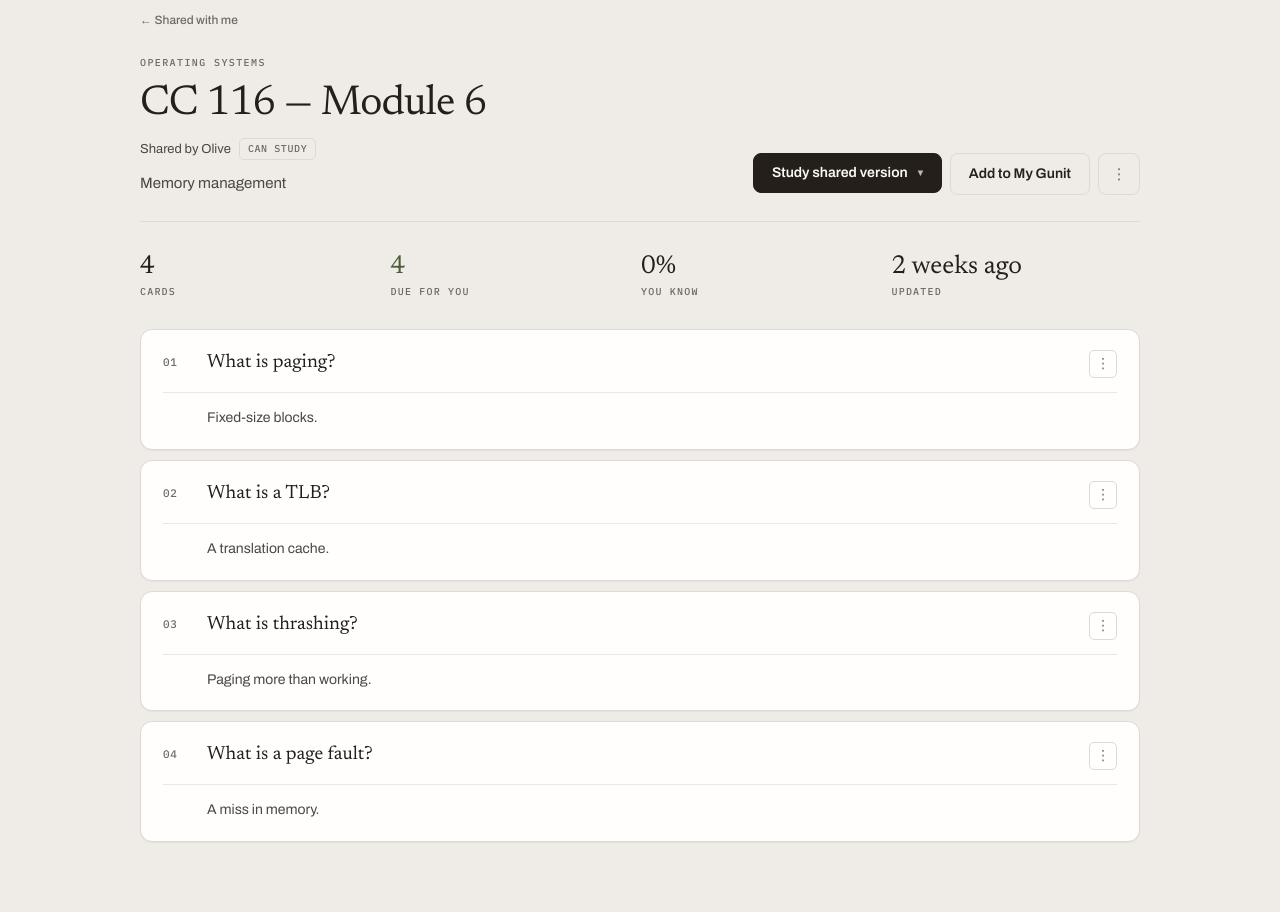
it: what each role is offered › gives a viewer nothing that edits the shared deck
expect the text "What is paging?" is shown: met, box [207, 353, 335, 372]
Click the button "⋮" in the row of "What is paging?" at (1103, 364), box [1089, 350, 1117, 378]
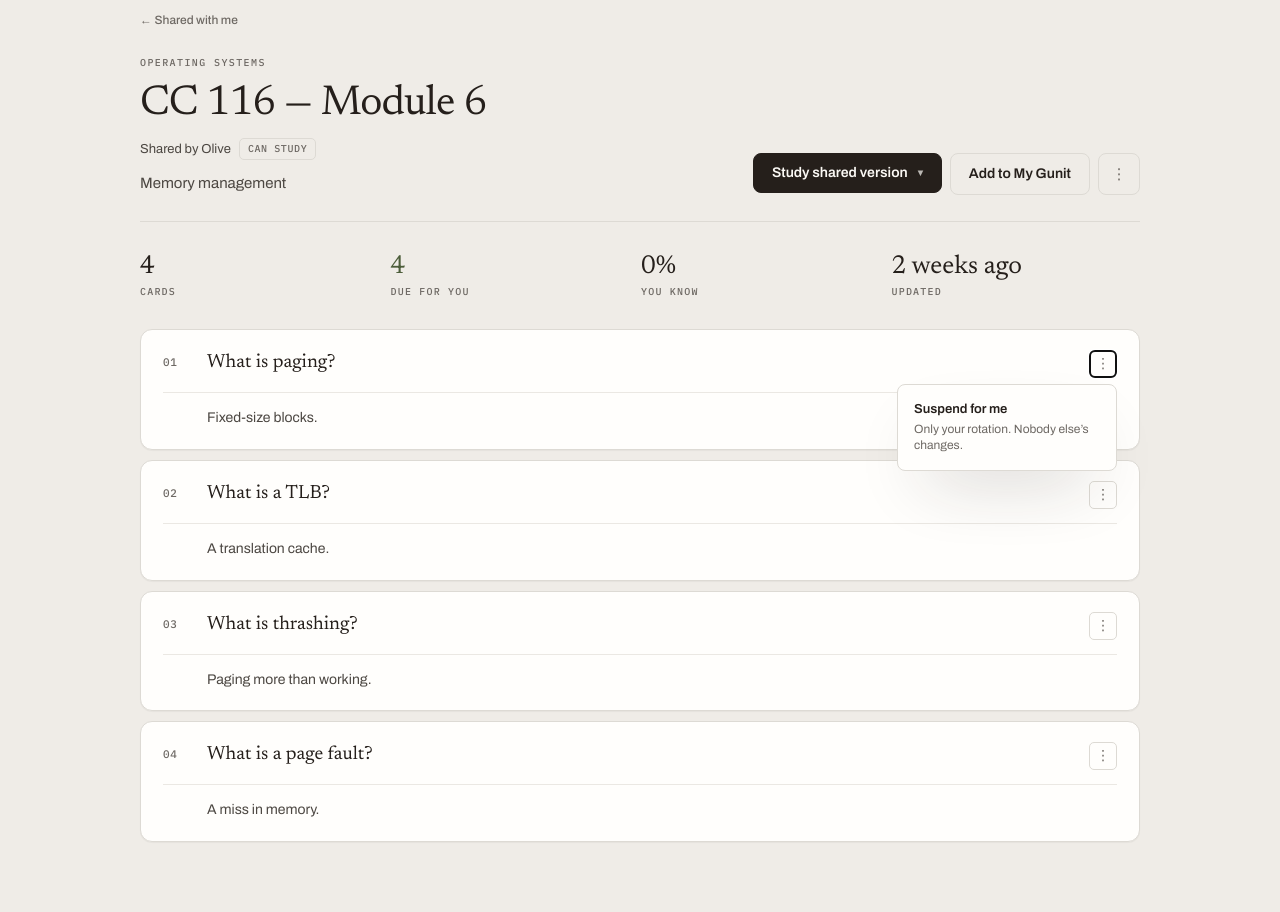
expect the button "Suspend for me Only your rotation. Nobody else’s changes." is shown: met, box [903, 390, 1111, 465]
